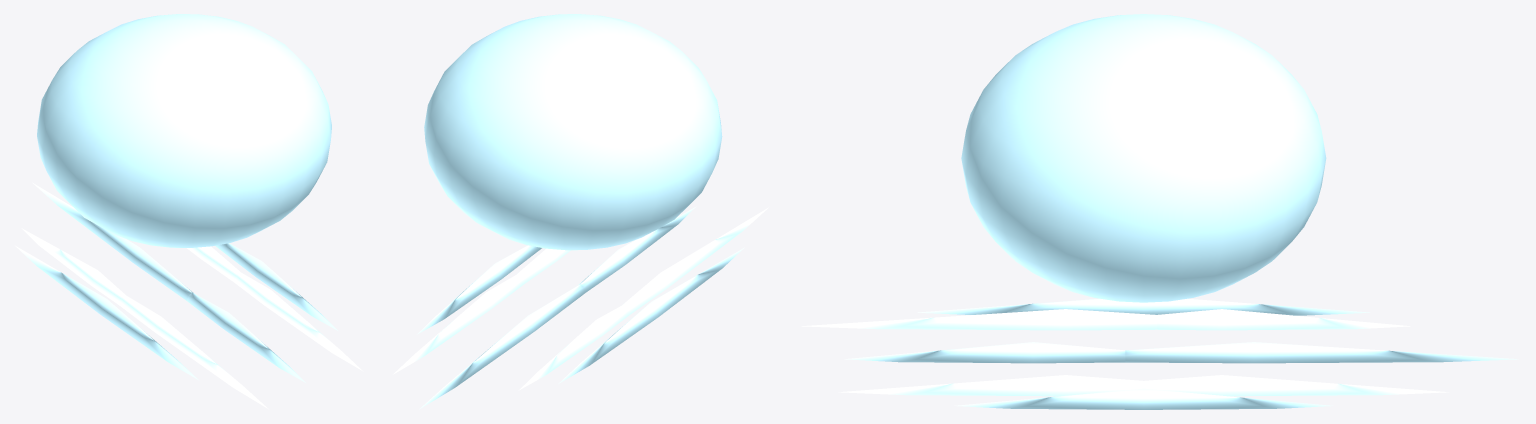
The model's file is glass-parasol.glb.
3 renders of one model, left to right at view 1: azimuth 30°, elevation 25°; view 2: azimuth 150°, elevation 25°; view 3: azimuth 270°, elevation 25°, orthographic. The views are drawn at different scales.
Parts seen in each view (by area): view 1: bell, tentacle-4, tentacle-5, tentacle-2, tentacle-7, tentacle-6, tentacle-0, tentacle-3, tentacle-1; view 2: bell, tentacle-4, tentacle-2, tentacle-5, tentacle-1, tentacle-0, tentacle-6, tentacle-3, tentacle-7; view 3: bell, tentacle-2, tentacle-5, tentacle-0, tentacle-7, tentacle-1, tentacle-6, tentacle-4, tentacle-3.
Part boxes in pixels (x1,y1,x2,y2): bell: (37, 14, 331, 247); tentacle-4: (15, 245, 198, 380); tentacle-5: (119, 294, 268, 409); tentacle-2: (32, 182, 193, 300); tentacle-7: (234, 271, 363, 371); tentacle-6: (186, 292, 305, 382); tentacle-0: (215, 243, 337, 330); tentacle-3: (21, 228, 125, 304); tentacle-1: (187, 246, 239, 281); bell: (424, 14, 722, 250); tentacle-4: (558, 247, 744, 383); tentacle-2: (419, 284, 585, 409); tentacle-5: (623, 207, 768, 315); tentacle-1: (393, 274, 523, 374); tentacle-0: (417, 245, 541, 334); tentacle-6: (579, 206, 696, 292); tentacle-3: (518, 305, 628, 390); tentacle-7: (517, 248, 570, 284); bell: (961, 14, 1326, 302); tentacle-2: (1125, 342, 1518, 363); tentacle-5: (801, 309, 1156, 330); tentacle-0: (954, 388, 1332, 409); tentacle-7: (838, 375, 1143, 396); tentacle-1: (1144, 375, 1448, 396); tentacle-6: (844, 342, 1125, 363); tentacle-4: (917, 298, 1369, 315); tentacle-3: (1157, 309, 1410, 330).
Size of the model in its own units: 1.72 by 1.68 by 3.41.
